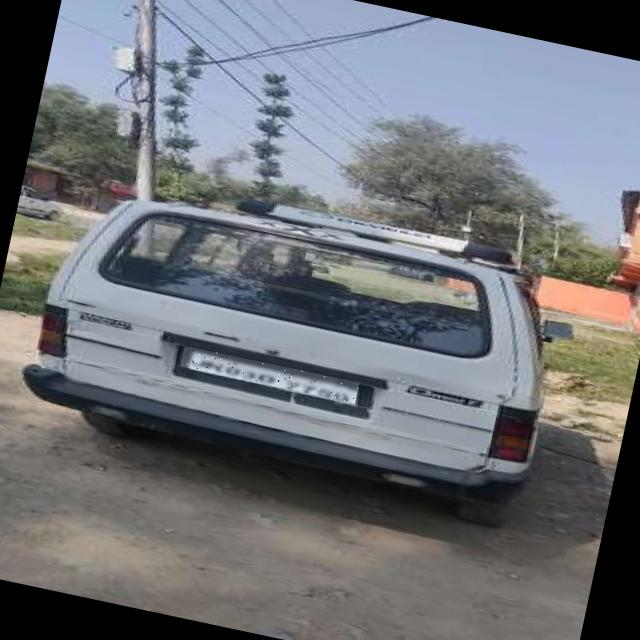Plate: (181, 346, 360, 404)
